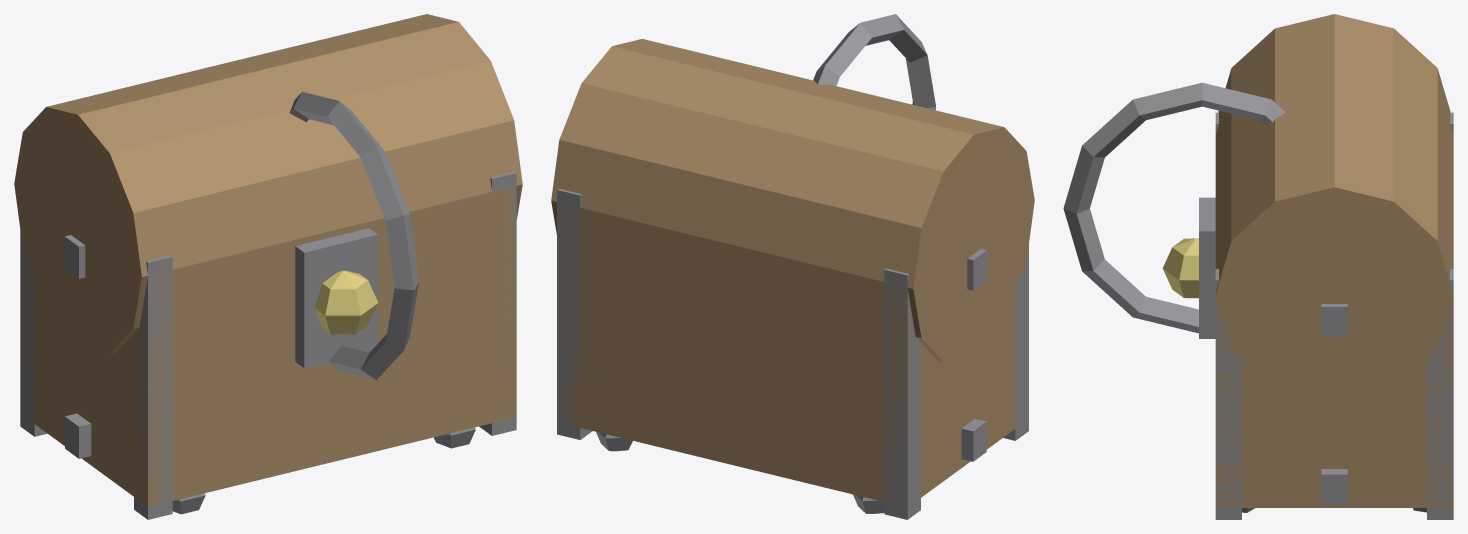
File: chest.dae
The picture shows the model from 3 angles, left to right: view 1: azimuth 30°, elevation 25°; view 2: azimuth 150°, elevation 25°; view 3: azimuth 270°, elevation 25°; orthographic projection. The views are drawn at different scales.
Visible parts, largest first — view 1: Cylinder, Cube, Torus, Cube.001, Cube.007, Sphere, Cube.002, Cube.003, Cube.005, Cube.006; view 2: Cylinder, Cube, Cube.002, Cube.004, Torus, Cube.001, Cube.005, Cube.006; view 3: Cylinder, Cube, Torus, Cube.004, Cube.003, Cube.007, Sphere, Cube.005, Cube.006.
Part boxes in pixels (left/top/right/bottom): Cylinder: left=14, top=14, right=522, bottom=353; Cube: left=20, top=186, right=516, bottom=506; Torus: left=289, top=92, right=418, bottom=379; Cube.001: left=134, top=255, right=172, bottom=519; Cube.007: left=295, top=228, right=377, bottom=368; Sphere: left=314, top=270, right=378, bottom=334; Cube.002: left=20, top=233, right=47, bottom=436; Cube.003: left=479, top=171, right=516, bottom=435; Cube.005: left=65, top=413, right=91, bottom=458; Cube.006: left=65, top=235, right=85, bottom=278; Cylinder: left=551, top=39, right=1034, bottom=361; Cube: left=557, top=203, right=1028, bottom=504; Cube.002: left=884, top=268, right=920, bottom=519; Cube.004: left=557, top=188, right=592, bottom=439; Torus: left=813, top=14, right=935, bottom=110; Cube.001: left=1003, top=245, right=1028, bottom=440; Cube.005: left=961, top=418, right=986, bottom=461; Cube.006: left=967, top=249, right=986, bottom=290; Cylinder: left=1215, top=14, right=1453, bottom=402; Cube: left=1215, top=297, right=1453, bottom=507; Torus: left=1063, top=82, right=1285, bottom=333; Cube.004: left=1427, top=269, right=1453, bottom=519; Cube.003: left=1215, top=269, right=1241, bottom=519; Cube.007: left=1199, top=197, right=1215, bottom=338; Sphere: left=1162, top=238, right=1198, bottom=298; Cube.005: left=1321, top=469, right=1347, bottom=504; Cube.006: left=1321, top=304, right=1347, bottom=336.
Size of the model in its own units: 64 by 59 by 61.5.
